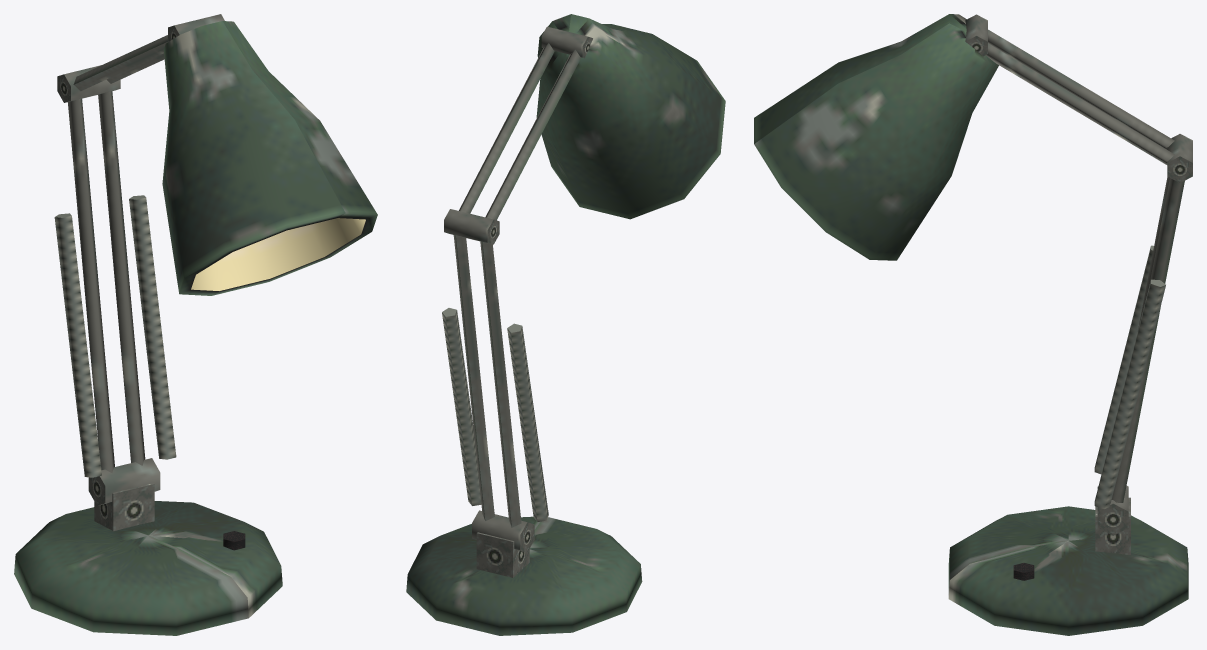
The model's file is lamp_desk.obj.
The picture shows the model from 3 angles, left to right: view 1: azimuth 30°, elevation 25°; view 2: azimuth 150°, elevation 25°; view 3: azimuth 270°, elevation 25°; orthographic projection. The views are drawn at different scales.
Parts seen in each view (by area): view 1: lamp_desk; view 2: lamp_desk; view 3: lamp_desk.
Boxes of the visible parts, x1=… form: lamp_desk: x1=14, y1=14, x2=377, y2=635; lamp_desk: x1=406, y1=14, x2=725, y2=635; lamp_desk: x1=754, y1=14, x2=1192, y2=635.
Size of the model in its own units: 0.17 by 0.4188 by 0.2954.
2 materials, 2 textured.
